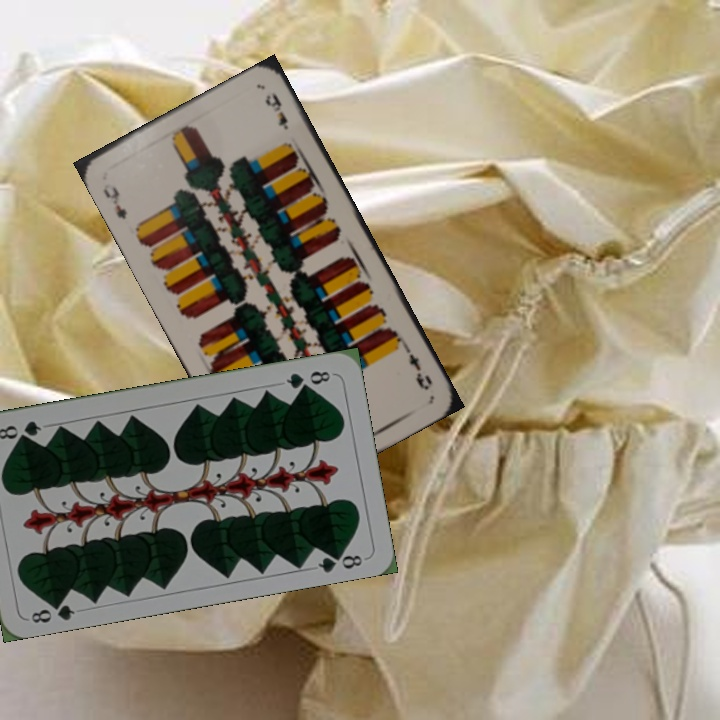E9: (399, 341, 435, 393), (98, 182, 130, 222)
G8: (27, 595, 78, 626), (282, 366, 333, 392)
